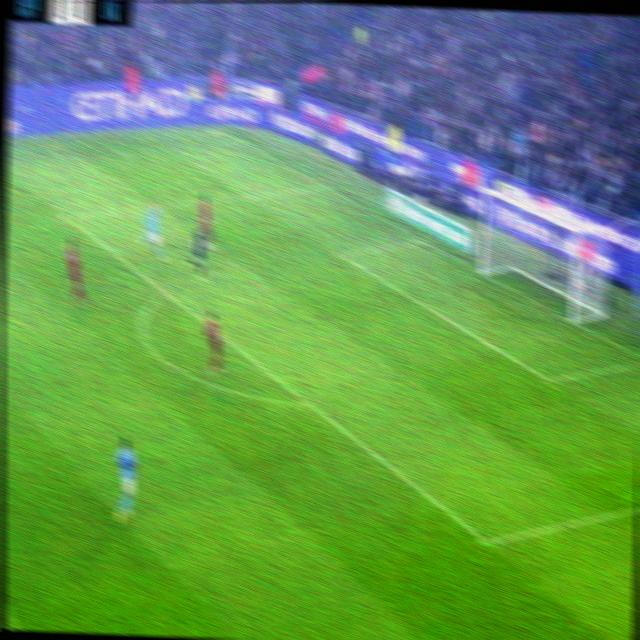bigarea_bottom_inner: (476, 530, 497, 553)
bigarea_top_inner: (58, 207, 75, 226)
bigarea_top_outter: (318, 179, 330, 192)
bottom_arc_area_intersection: (300, 395, 316, 410)
corner: (214, 126, 227, 136)
smallarea_bottom_inner: (539, 366, 559, 390)
smallarea_top_inner: (332, 244, 346, 262)
smallarea_top_outter: (415, 233, 430, 248)
top_arc_area_intersection: (157, 283, 171, 300)
